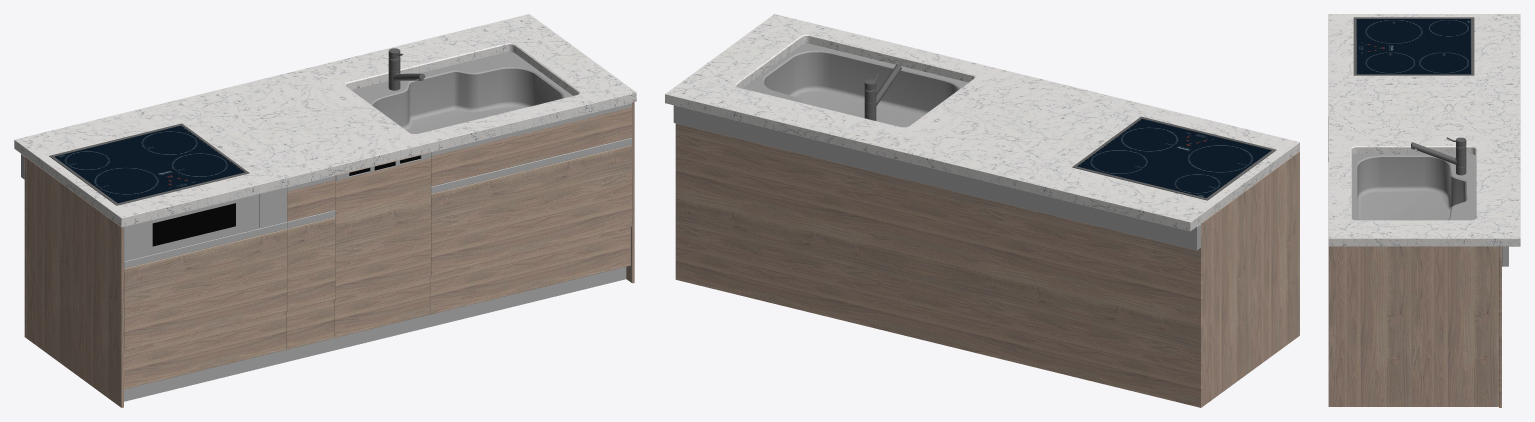
File: SM_Kitchen_12.fbx
3 views of the same model, side by side, from view 1: azimuth 30°, elevation 25°; view 2: azimuth 150°, elevation 25°; view 3: azimuth 270°, elevation 25° (orthographic). The views are drawn at different scales.
Parts seen in each view (by area): view 1: kitchen1; view 2: kitchen1; view 3: kitchen1.
Boxes of the visible parts, box(x1,y1,x2,y2) form: kitchen1: box(14, 14, 636, 407); kitchen1: box(665, 14, 1299, 407); kitchen1: box(1328, 14, 1520, 407).
Bounding box in the file's own units: 258 × 106 × 93.47.
7 materials, 5 textured.
